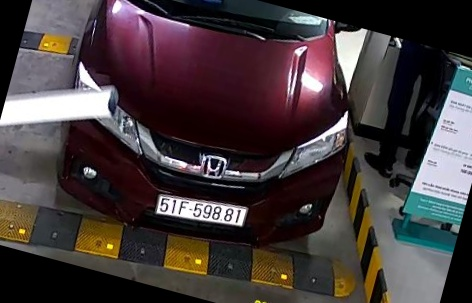plate: (152, 187, 250, 230)
